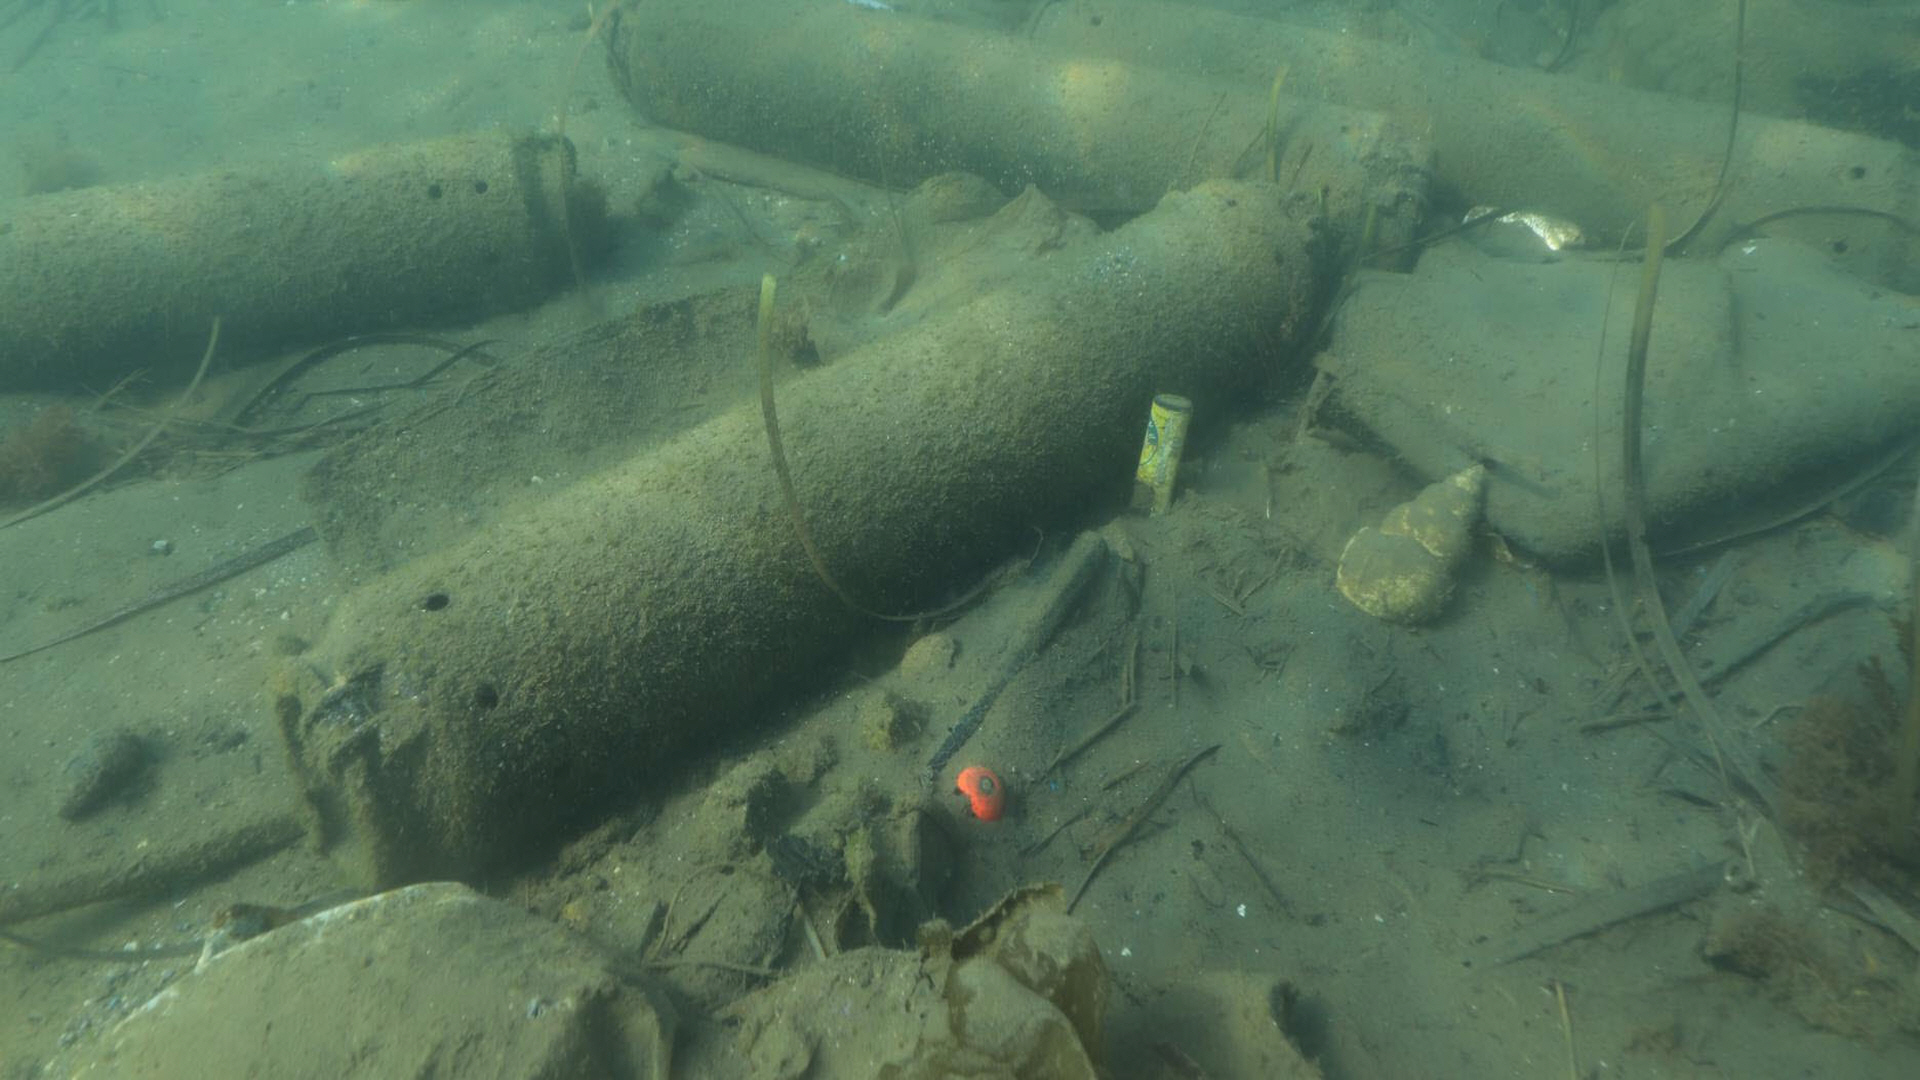eel fish trap: (268, 178, 1331, 894), (1025, 0, 1920, 293), (603, 0, 1443, 274), (0, 119, 579, 378)
